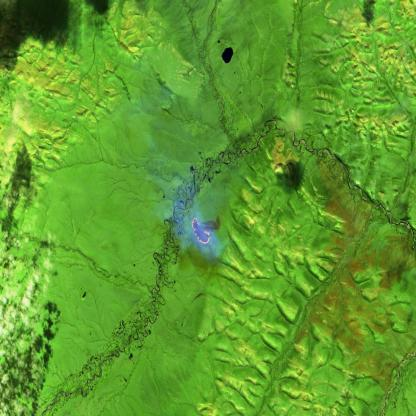fire: (189, 218, 211, 249)
